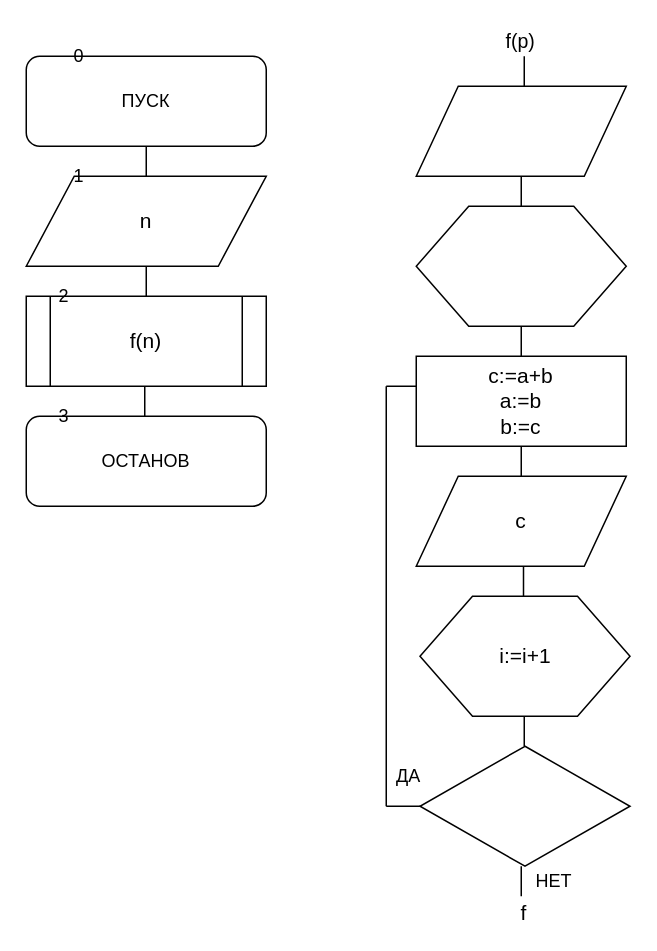
The diagram is 657 pixels wide and 951 high, and some of its shapes have lost their labels. The shapes that lost their labels are listed below. From the top down, each one's box as (x1, y1, x2, y2) in pixels, then its label:
(415, 85, 626, 176): a:=0 b:=1
(415, 205, 626, 326): i:=1
(418, 745, 630, 866): i<p
